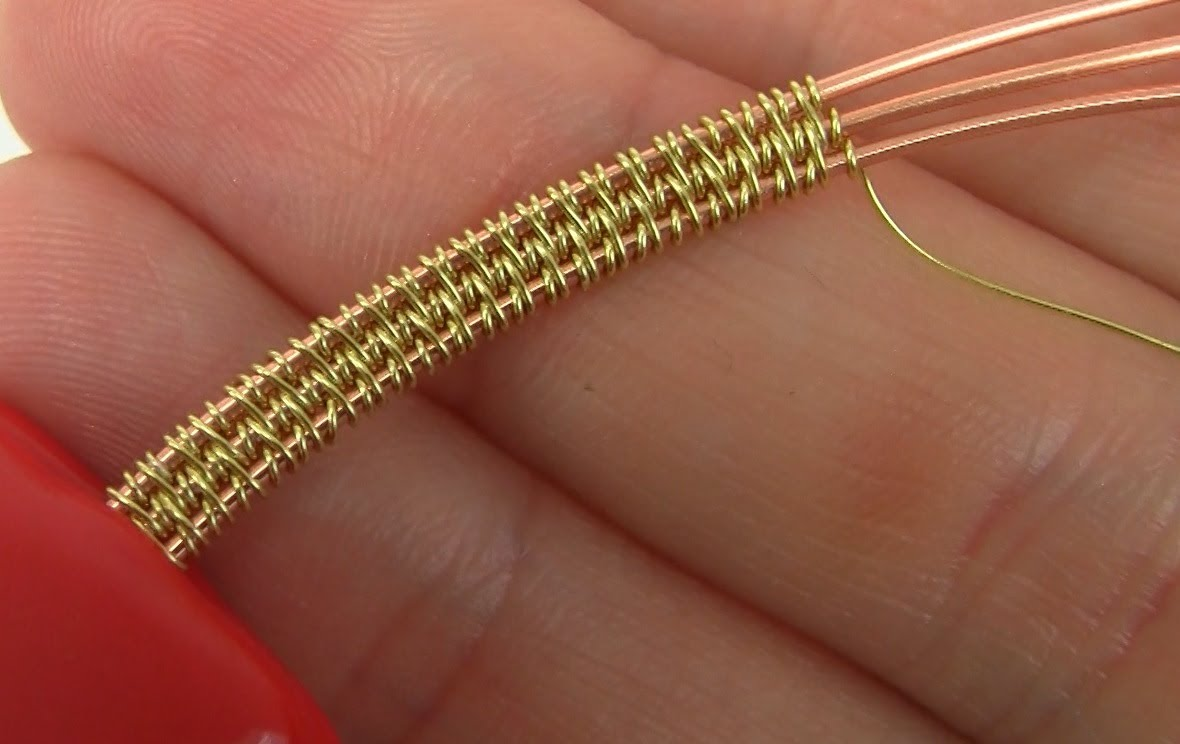Nonrec_Tangler: (60, 75, 1157, 547)
